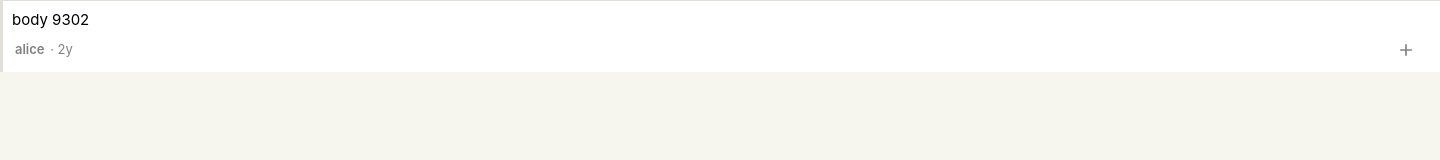
it: <Comment> downvote wiring › switching from upvoted to downvoted swaps aria-pressed on both buttons
Expected: the text "body 9302" is shown, [12, 10, 89, 29]
Click the button named "expand comment": (1406, 50) [1384, 32, 1428, 68]
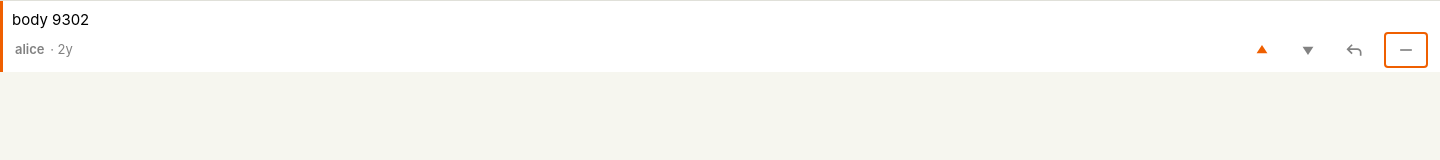
Click the button with test id "comment-downvote": (1308, 50) [1286, 32, 1330, 68]
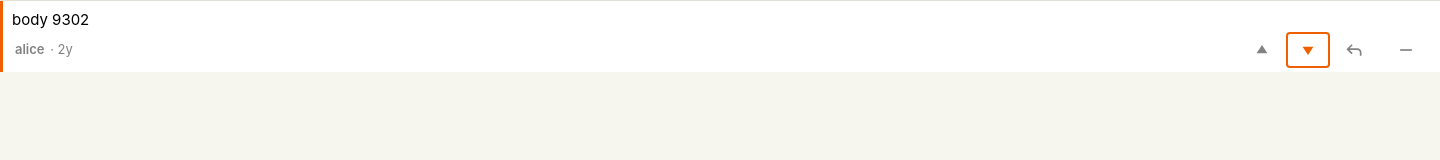
Expected: the button with test id "comment-upvote" is not pressed, [1240, 32, 1284, 68]
Expected: the button with test id "comment-downvote" is pressed, [1286, 32, 1330, 68]
